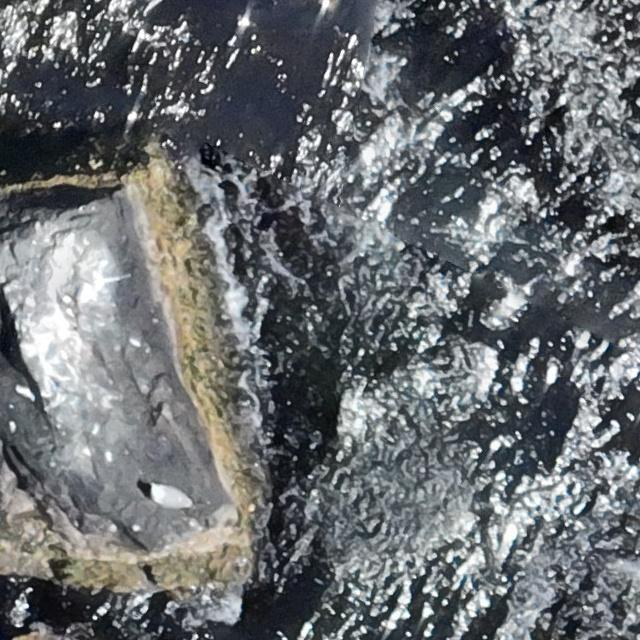umineko: (151, 487, 187, 509)
